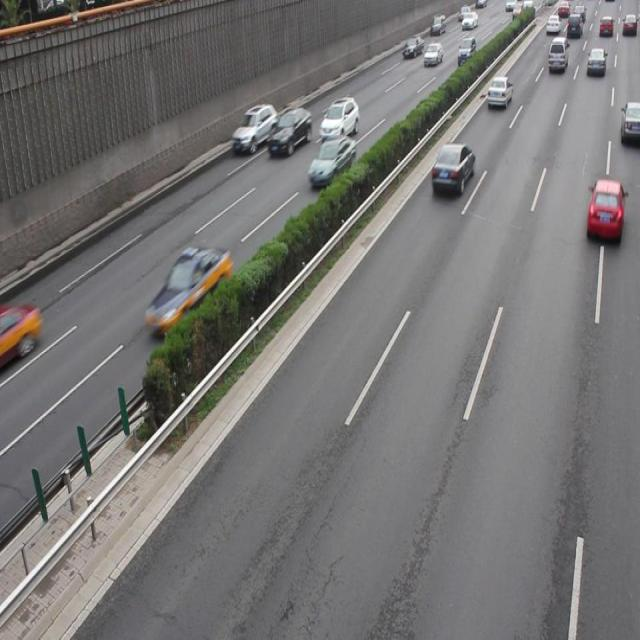car: (146, 242, 232, 335), (1, 300, 42, 370), (584, 176, 624, 247), (430, 140, 474, 198), (308, 134, 355, 187), (231, 101, 277, 154), (267, 106, 311, 159), (320, 96, 357, 142), (618, 100, 640, 142)
